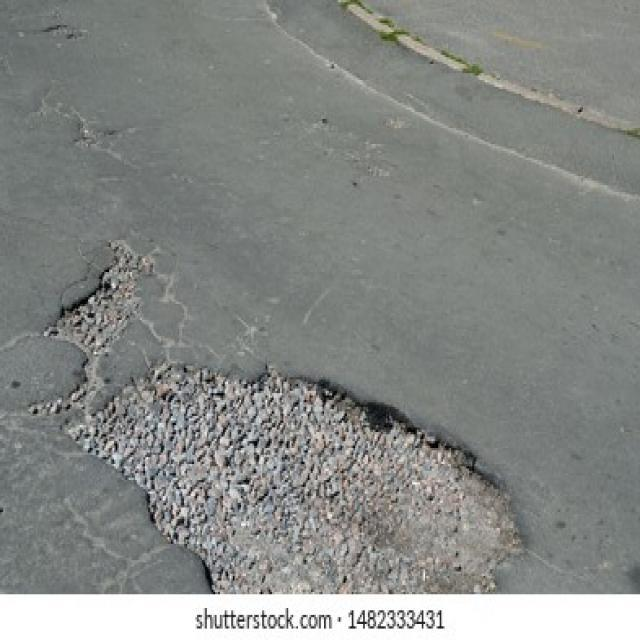Pothole: (64, 363, 526, 594), (52, 240, 153, 361), (74, 121, 118, 151), (46, 23, 66, 34), (66, 29, 82, 41)
